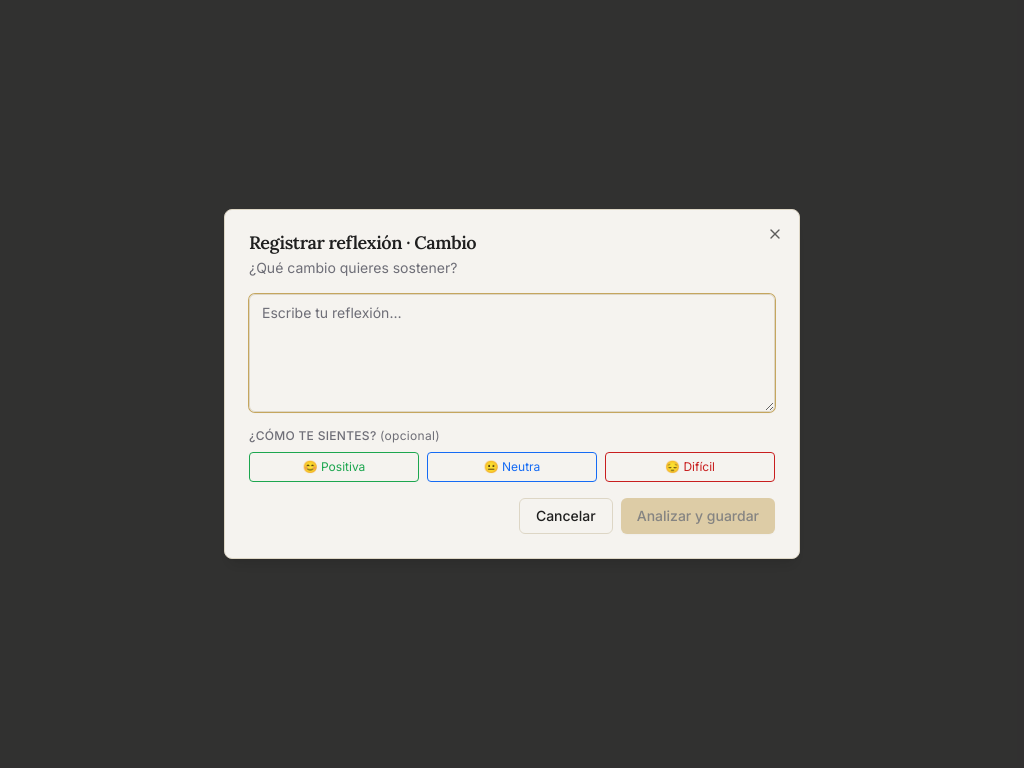
Test: CenterReflectionDialog › keeps the draft after an error and allows a single retry
Type "No quiero perder este texto" into the text box with test id "center-reflection-input". click: (512, 353)
box: top-left (249, 294), bottom-right (775, 412)
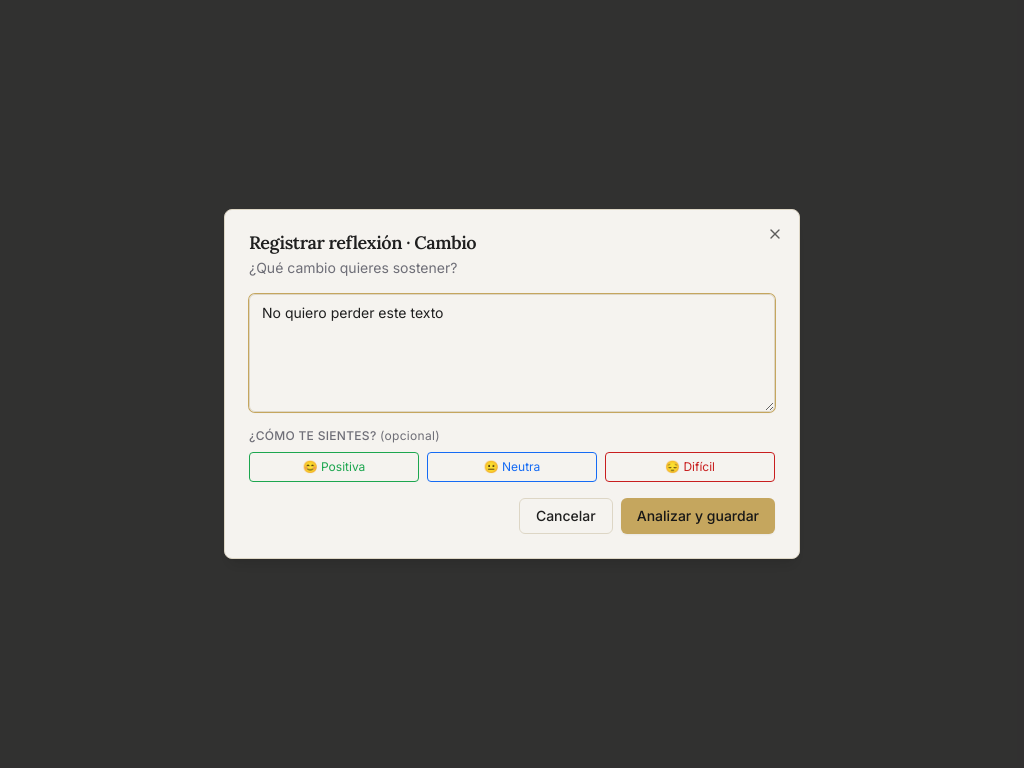
Click the button "Analizar y guardar". click: (698, 516)
box: top-left (621, 498), bottom-right (775, 534)
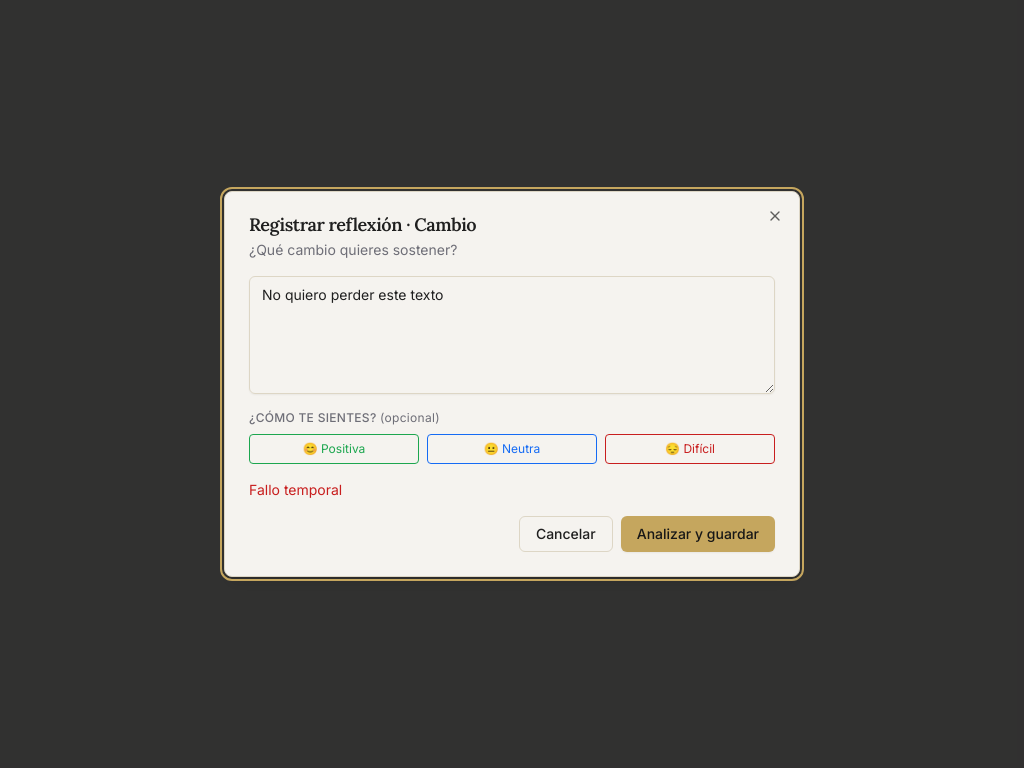
Result: the message reads "Fallo temporal" at top-left (249, 481), bottom-right (342, 498)
Click the button "Analizar y guardar". click: (698, 534)
box: top-left (621, 516), bottom-right (775, 552)
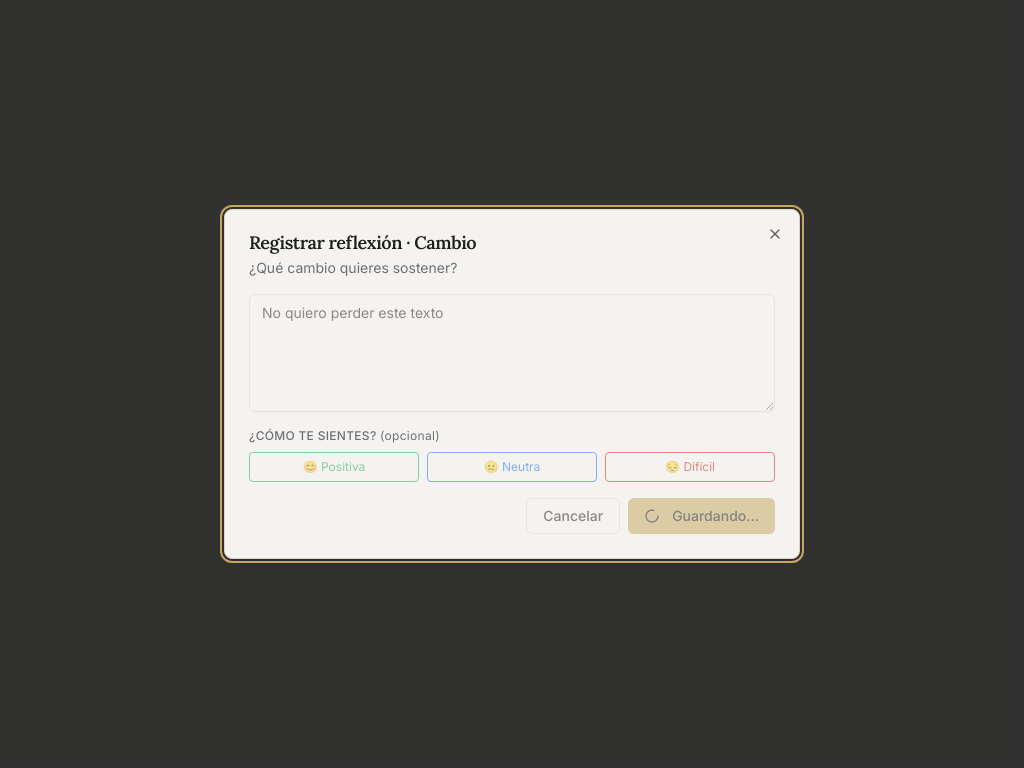
Result: the button "Guardando…" is disabled
Click the button "Guardando…". click: (702, 516)
box: top-left (628, 498), bottom-right (775, 534)
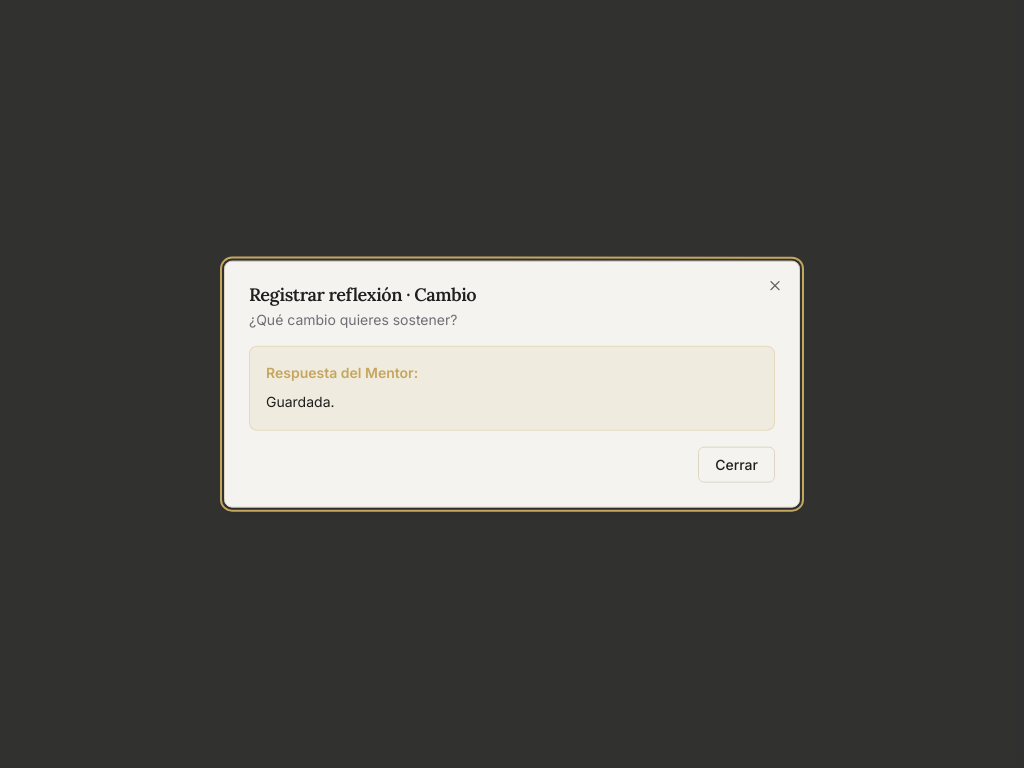
Result: the text "Guardada." is shown at top-left (266, 393), bottom-right (334, 410)
